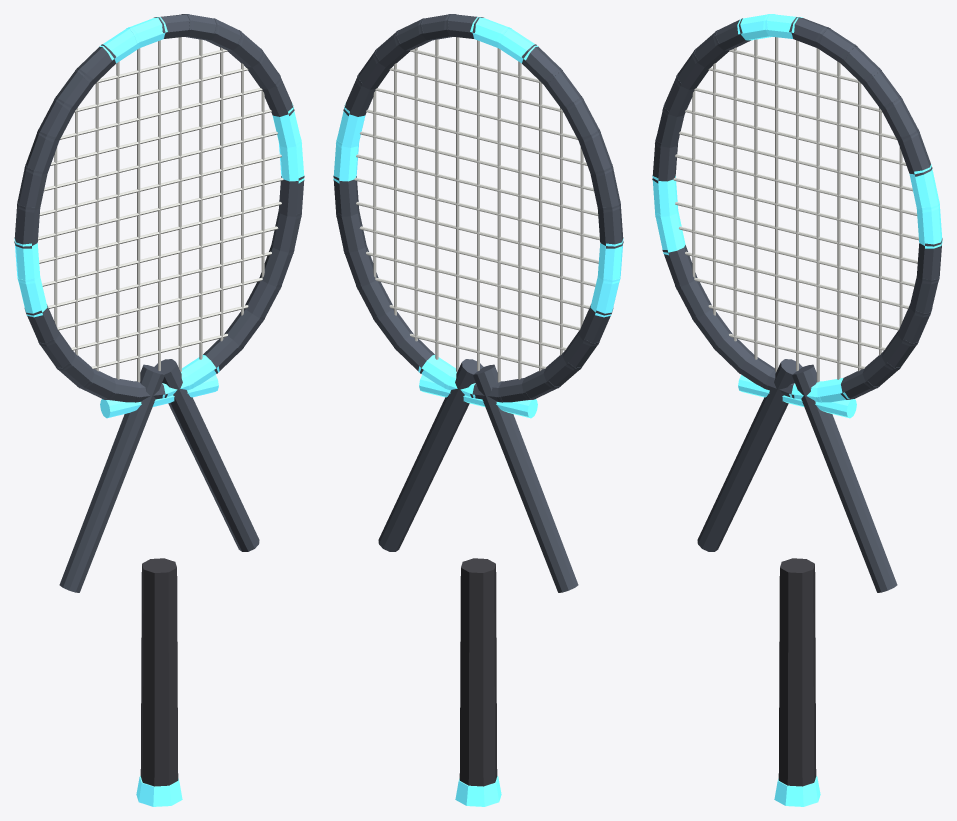
The model's file is racket.glb.
3 views of the same model, side by side, from view 1: azimuth 30°, elevation 25°; view 2: azimuth 150°, elevation 25°; view 3: azimuth 330°, elevation 25° (orthographic).
Visible parts, largest first — view 1: HandleGrip, ThroatLeft, ThroatRight, StringMain_1, StringMain_-1, StringMain_2, StringMain_-2, StringMain_3, StringMain_-3, ThroatBridge, ButtCap, StringMain_0 (+45 smaller); view 2: HandleGrip, ThroatLeft, ThroatRight, StringMain_1, StringMain_-1, StringMain_2, StringMain_-2, StringMain_3, StringMain_-3, ThroatBridge, ButtCap, StringMain_0 (+45 smaller); view 3: HandleGrip, ThroatRight, ThroatLeft, StringMain_-1, StringMain_1, StringMain_-2, StringMain_2, StringMain_-3, StringMain_3, ThroatBridge, ButtCap, StringMain_0 (+45 smaller).
Part boxes in pixels (box(x1,y1,x2,y2)): HandleGrip: box(140, 558, 178, 786); ThroatLeft: box(59, 364, 164, 592); ThroatRight: box(154, 359, 259, 551); StringMain_1: box(178, 37, 181, 371); StringMain_-1: box(137, 48, 140, 382); StringMain_2: box(199, 39, 202, 359); StringMain_-2: box(116, 61, 119, 379); StringMain_3: box(220, 47, 223, 341); StringMain_-3: box(95, 80, 98, 371); ThroatBridge: box(100, 375, 218, 418); ButtCap: box(136, 776, 182, 806); StringMain_0: box(158, 40, 160, 370); HandleGrip: box(459, 558, 497, 786); ThroatLeft: box(473, 364, 578, 592); ThroatRight: box(378, 359, 483, 551); StringMain_1: box(456, 37, 459, 371); StringMain_-1: box(497, 48, 500, 382); StringMain_2: box(435, 39, 438, 359); StringMain_-2: box(518, 61, 521, 379); StringMain_3: box(414, 47, 417, 341); StringMain_-3: box(539, 80, 542, 371); ThroatBridge: box(419, 375, 537, 418); ButtCap: box(455, 776, 501, 806); StringMain_0: box(477, 40, 479, 370); HandleGrip: box(778, 558, 816, 786); ThroatRight: box(792, 364, 897, 592); ThroatLeft: box(697, 359, 802, 551); StringMain_-1: box(775, 37, 778, 371); StringMain_1: box(816, 48, 819, 382); StringMain_-2: box(754, 39, 757, 359); StringMain_2: box(837, 61, 840, 379); StringMain_-3: box(733, 47, 736, 341); StringMain_3: box(858, 80, 861, 371); ThroatBridge: box(738, 375, 856, 418); ButtCap: box(774, 776, 820, 806); StringMain_0: box(796, 40, 798, 370).
Bounding box in the file's own units: 0.2913 × 0.7547 × 0.042.
